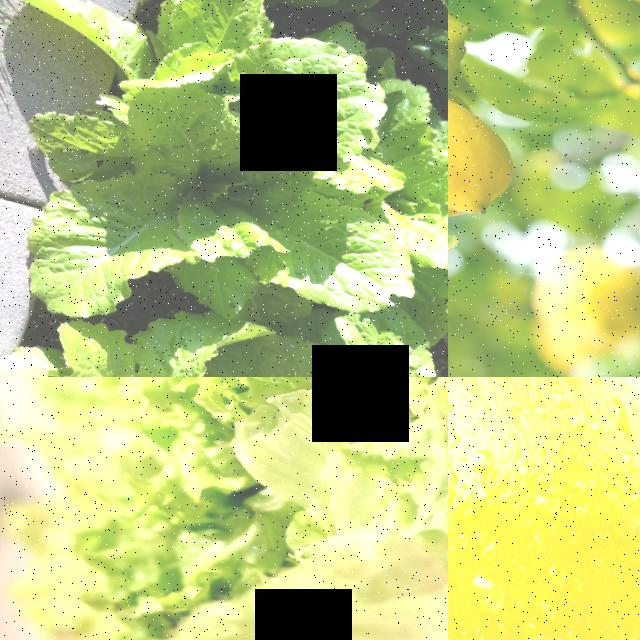lemon: (448, 377, 640, 640), (448, 74, 515, 216)
lettuce: (80, 431, 357, 640), (134, 0, 390, 192), (212, 173, 448, 377), (350, 0, 448, 187)
